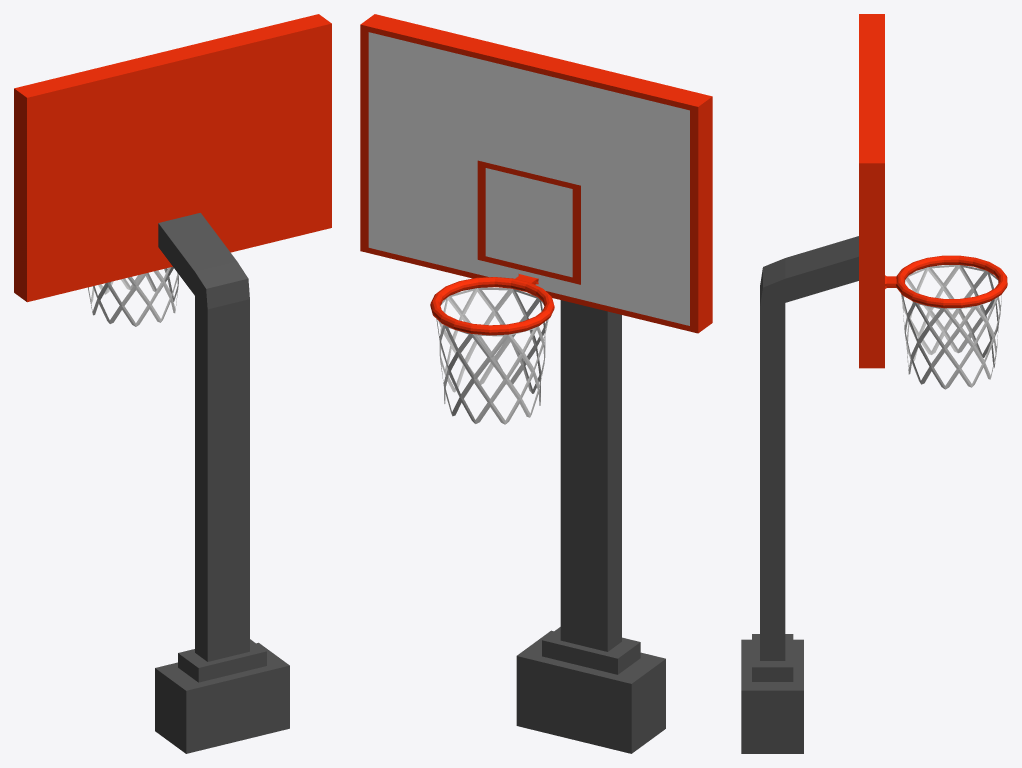
The model's file is bball_goal.fbx.
3 views of the same model, side by side, from view 1: azimuth 30°, elevation 25°; view 2: azimuth 150°, elevation 25°; view 3: azimuth 270°, elevation 25° (orthographic). The views are drawn at different scales.
Parts seen in each view (by area): view 1: Bball_Goal; view 2: Bball_Goal; view 3: Bball_Goal.
Boxes of the visible parts, x1,y1,x2,y2 form: Bball_Goal: (14,14,331,753); Bball_Goal: (360,14,712,753); Bball_Goal: (741,14,1007,753).
Size of the model in its own units: 310 by 620 by 234.
